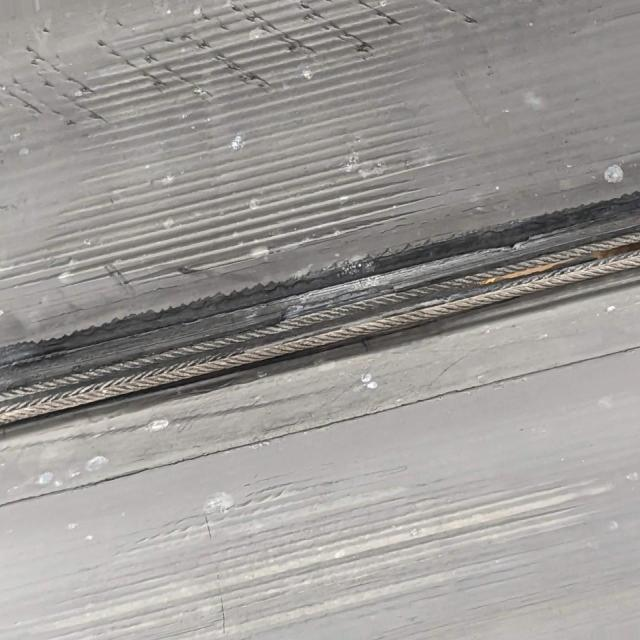Tear: (41, 0, 439, 142)
impact damage: (0, 185, 640, 445), (20, 103, 434, 292)
